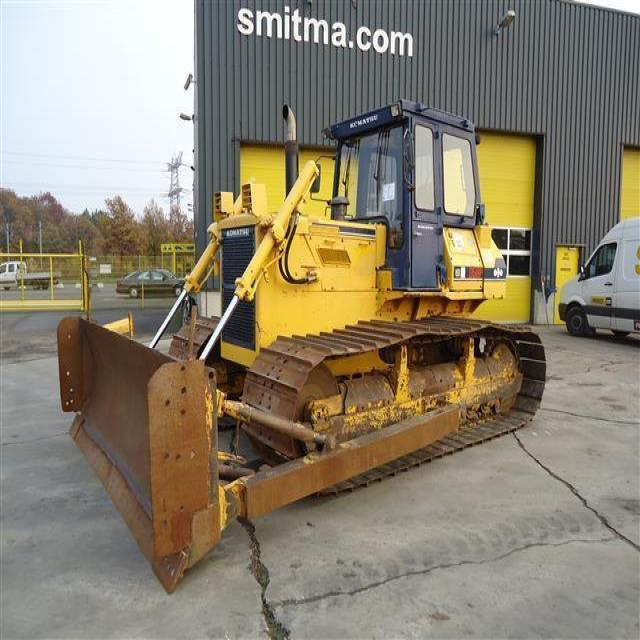buldozerpayloadergrader: (51, 85, 545, 591)
